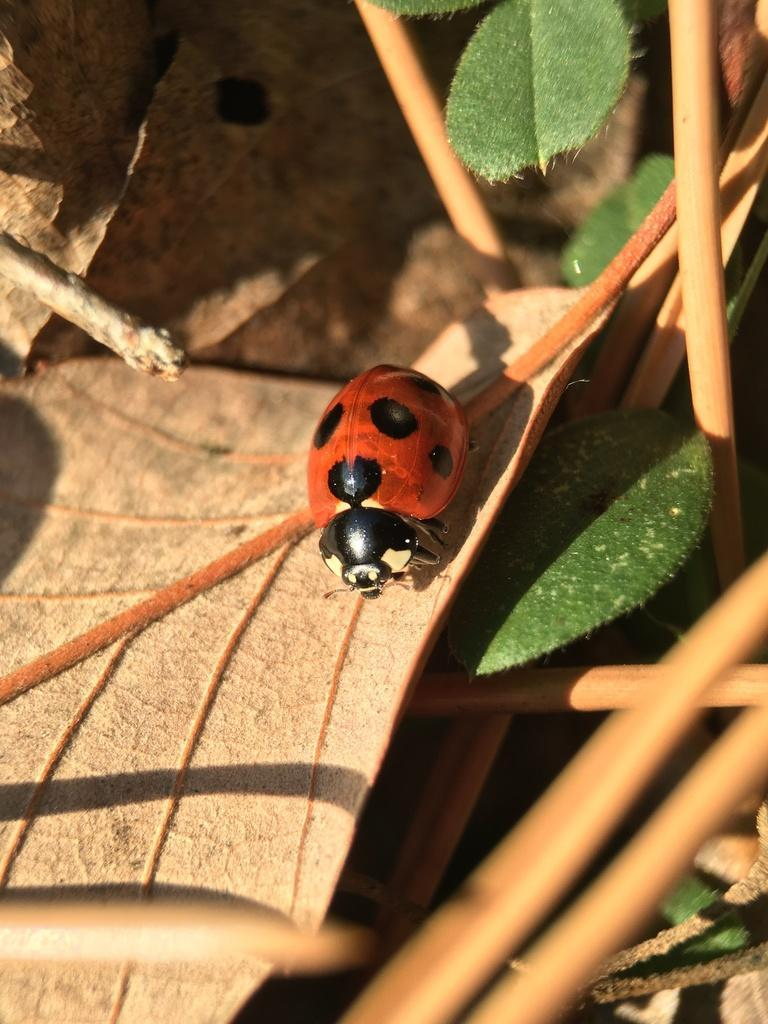ladybug: (307, 361, 485, 603)
